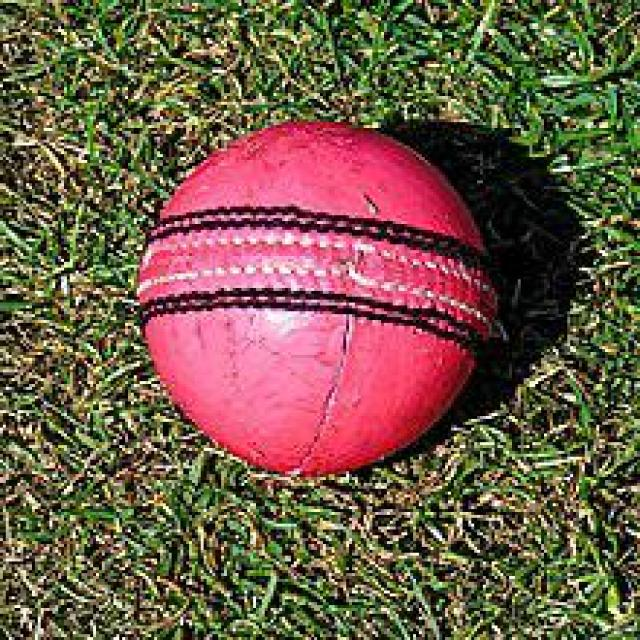ball: (134, 122, 494, 471)
